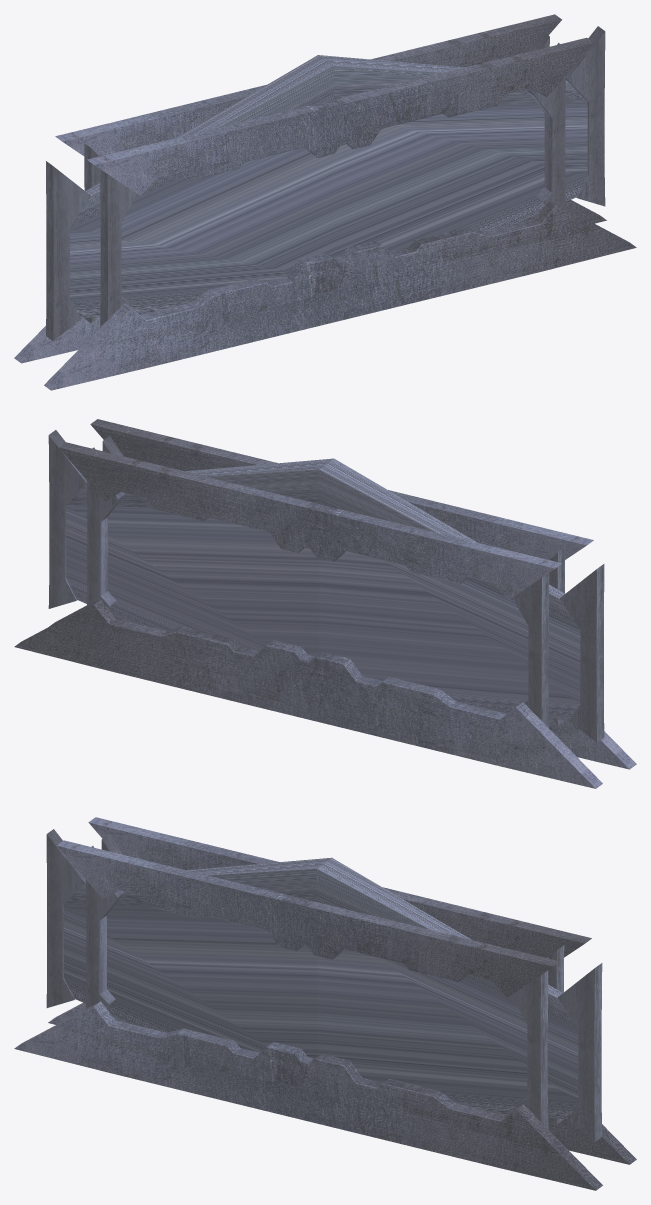
The model's file is gate.glb.
The picture shows the model from 3 angles, top to bottom: view 1: azimuth 30°, elevation 25°; view 2: azimuth 150°, elevation 25°; view 3: azimuth 330°, elevation 25°; orthographic projection.
Parts seen in each view (by area): view 1: pCube88, pCube87, polySurface9, polySurface8, polySurface140, pCube68, pCube67, polySurface138, pCube5; view 2: pCube88, pCube87, polySurface138, polySurface140, polySurface8, pCube5, pCube4, polySurface9, pCube68; view 3: pCube87, pCube88, polySurface9, polySurface8, polySurface140, pCube67, pCube68, polySurface138, pCube4.
Boxes of the visible parts, bbox=[...] form: pCube88: bbox=[46, 55, 333, 340]; pCube87: bbox=[318, 26, 605, 257]; polySurface9: bbox=[44, 200, 636, 390]; polySurface8: bbox=[87, 37, 593, 195]; polySurface140: bbox=[55, 14, 561, 156]; pCube68: bbox=[100, 155, 137, 327]; pCube67: bbox=[527, 43, 565, 207]; polySurface138: bbox=[14, 200, 606, 363]; pCube5: bbox=[84, 143, 100, 323]; pCube88: bbox=[318, 458, 604, 742]; pCube87: bbox=[48, 430, 333, 656]; polySurface138: bbox=[14, 599, 602, 788]; polySurface140: bbox=[59, 442, 561, 599]; polySurface8: bbox=[90, 419, 593, 559]; pCube5: bbox=[512, 558, 549, 728]; pCube4: bbox=[87, 447, 125, 608]; polySurface9: bbox=[49, 605, 636, 769]; pCube68: bbox=[549, 547, 565, 725]; pCube87: bbox=[316, 857, 602, 1141]; pCube88: bbox=[46, 829, 331, 1058]; polySurface9: bbox=[14, 1001, 602, 1190]; polySurface8: bbox=[57, 840, 560, 997]; polySurface140: bbox=[88, 817, 591, 958]; pCube67: bbox=[511, 957, 548, 1128]; pCube68: bbox=[86, 846, 123, 1008]; polySurface138: bbox=[48, 1002, 636, 1164]; pCube4: bbox=[548, 945, 564, 1123].
Bounding box in the file's own units: 0.4931 × 0.1967 × 0.057.
Materials: 1 (1 with a texture image).
